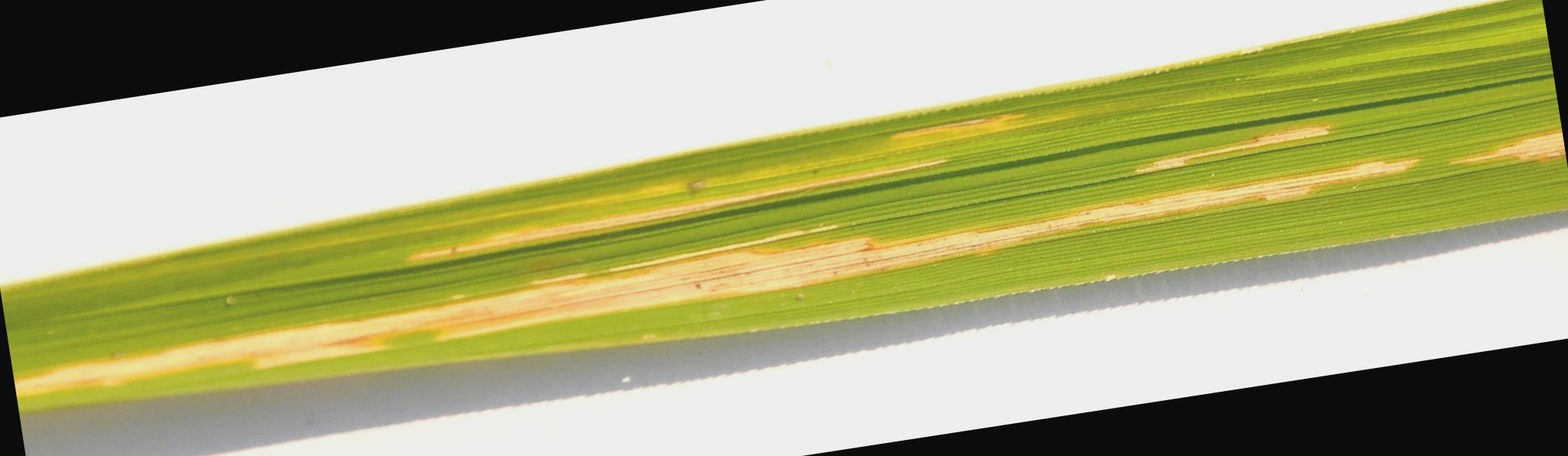Leaf_Blast: (379, 103, 1394, 233), (10, 223, 1568, 301)
